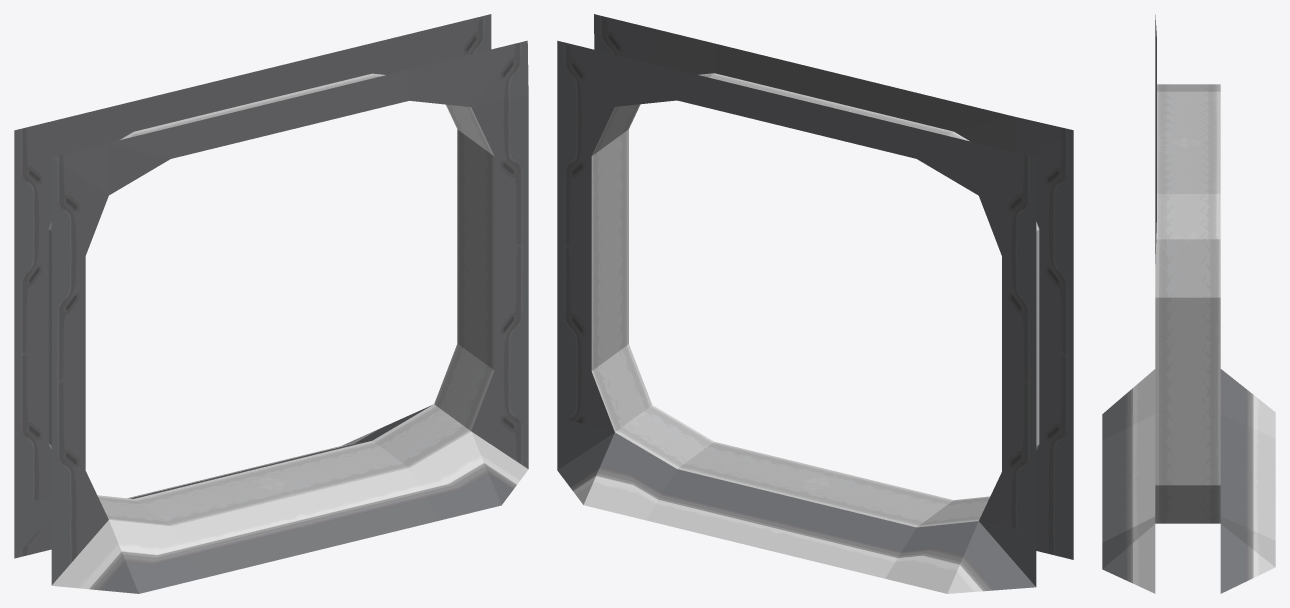
Rendered from mdlArch.fbx.
3 views of the same model, side by side, from view 1: azimuth 30°, elevation 25°; view 2: azimuth 150°, elevation 25°; view 3: azimuth 270°, elevation 25° (orthographic). The views are drawn at different scales.
Visible parts, largest first — view 1: ArchOrSomething; view 2: ArchOrSomething; view 3: ArchOrSomething.
Part boxes in pixels (x1,y1,x2,y2): ArchOrSomething: (14, 14, 528, 593); ArchOrSomething: (557, 14, 1073, 593); ArchOrSomething: (1102, 15, 1275, 593).
Size of the model in its own units: 42.32 by 36.29 by 15.17.
1 material, 1 textured.
